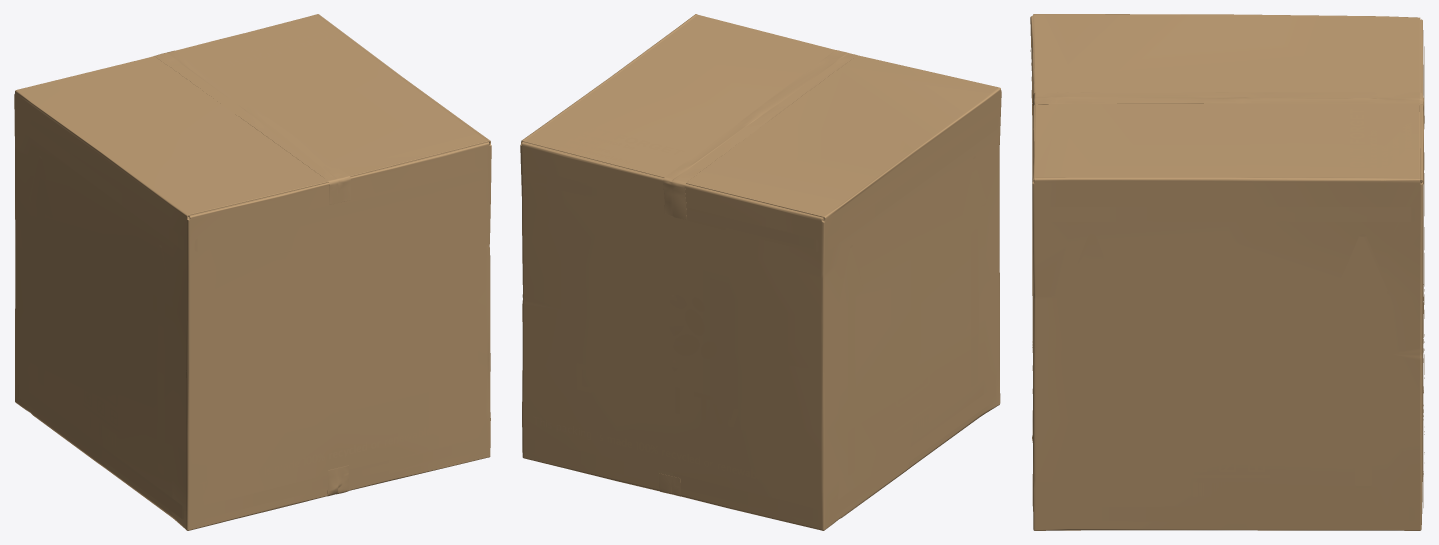
The model's file is box_corrugated_brown_b04.glb.
3 views of the same model, side by side, from view 1: azimuth 30°, elevation 25°; view 2: azimuth 150°, elevation 25°; view 3: azimuth 270°, elevation 25° (orthographic). The views are drawn at different scales.
Bounding box in the file's own units: 0.1818 × 0.1806 × 0.182.
